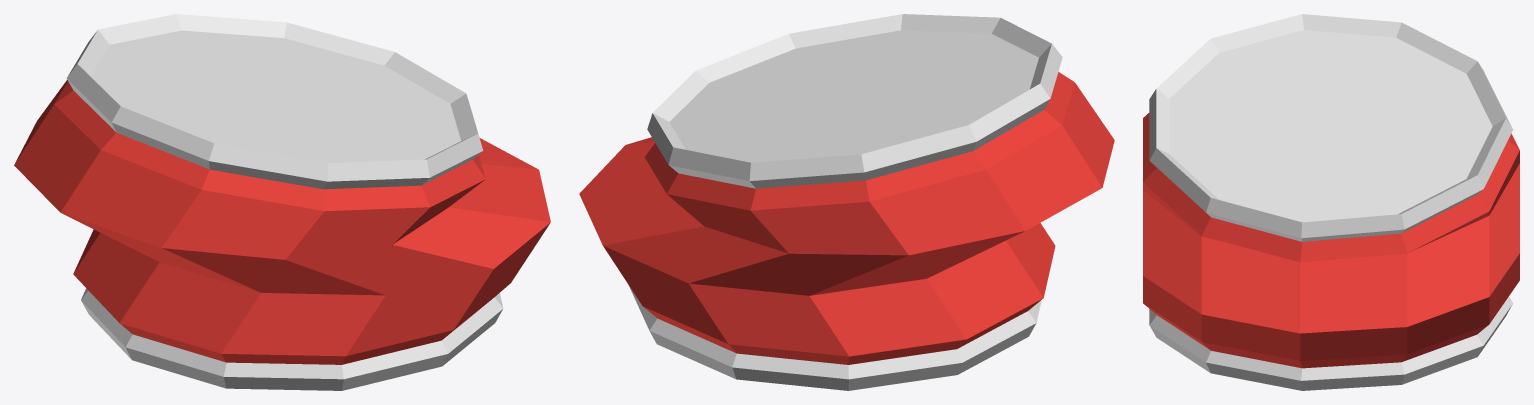
File: Kola 1.fbx
3 renders of one model, left to right at view 1: azimuth 30°, elevation 25°; view 2: azimuth 150°, elevation 25°; view 3: azimuth 270°, elevation 25°, orthographic. The views are drawn at different scales.
Parts seen in each view (by area): view 1: Cylinder.002; view 2: Cylinder.002; view 3: Cylinder.002.
Boxes of the visible parts, <box> form: Cylinder.002: <box>14,14,550,390</box>; Cylinder.002: <box>579,14,1114,390</box>; Cylinder.002: <box>1143,14,1519,390</box>.
Size of the model in its own units: 71.2 by 36.49 by 55.89.
